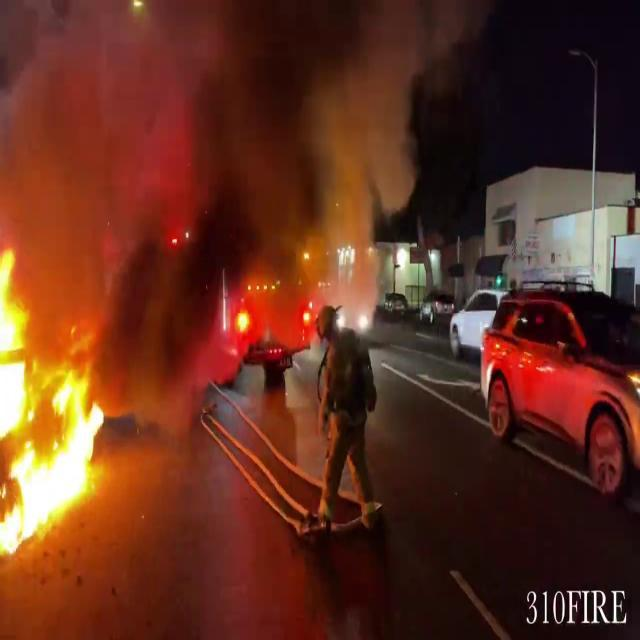Fire: (0, 235, 112, 558)
Smoke: (2, 0, 453, 373)
